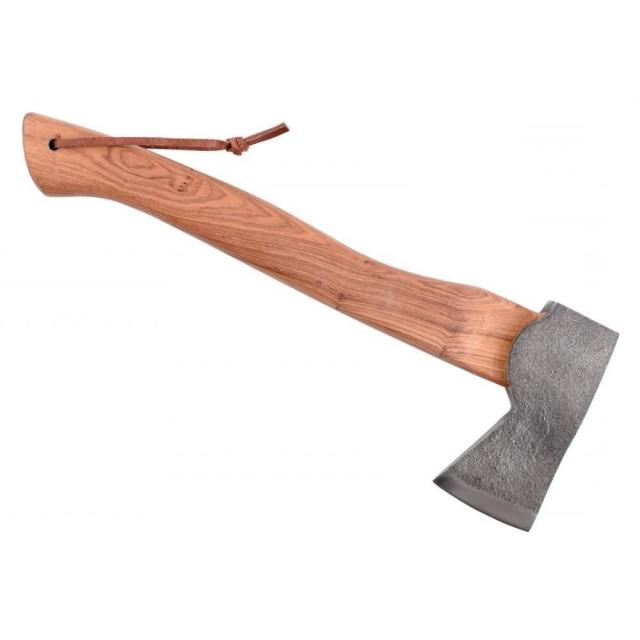Kapak: (16, 96, 637, 554)
